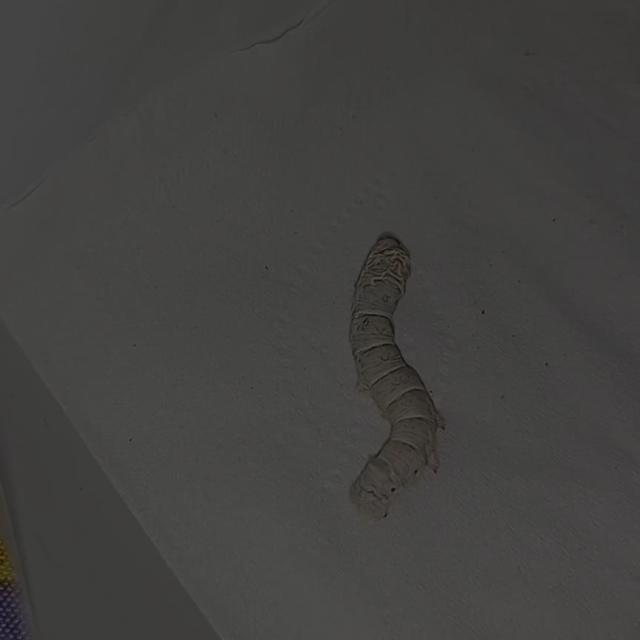Healthy: (311, 188, 476, 536)
